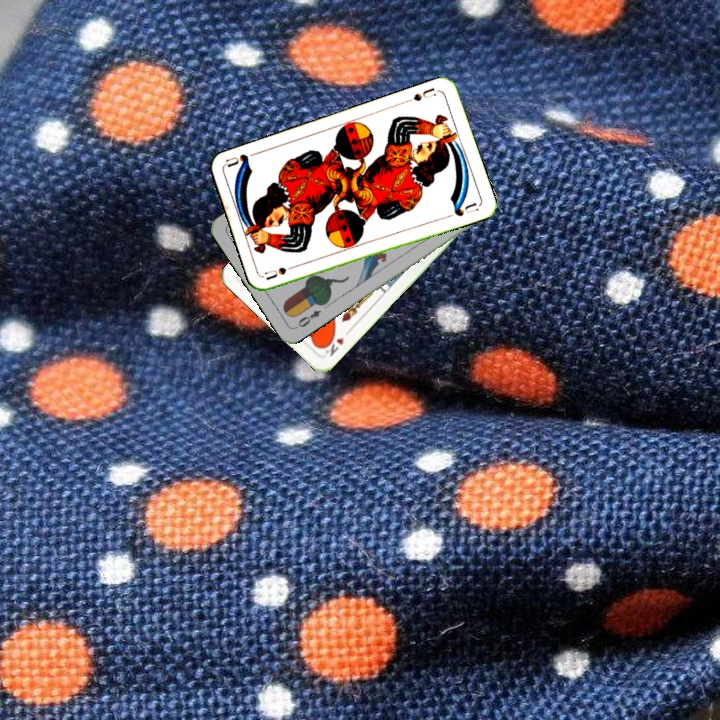EO: (292, 306, 324, 331)
HK: (319, 331, 347, 359)
SU: (261, 260, 301, 283), (409, 84, 441, 104)
